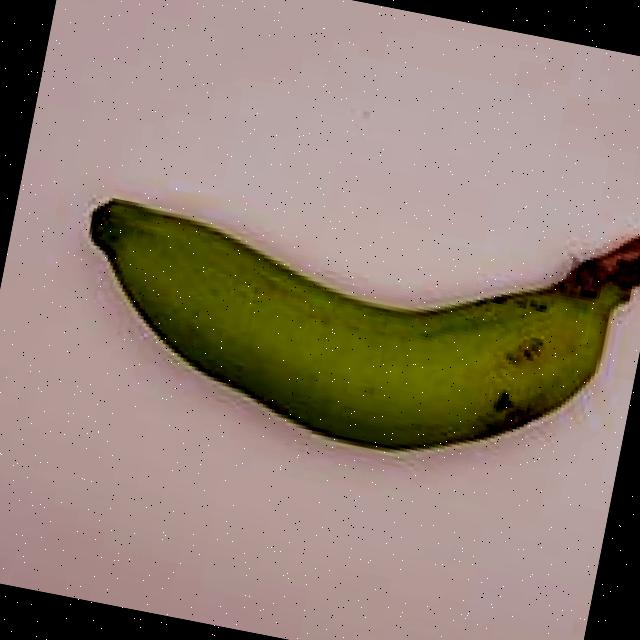Raw: (29, 86, 640, 528)
